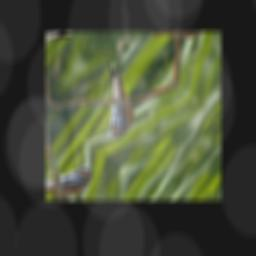Swallow: (73, 49, 163, 144)
